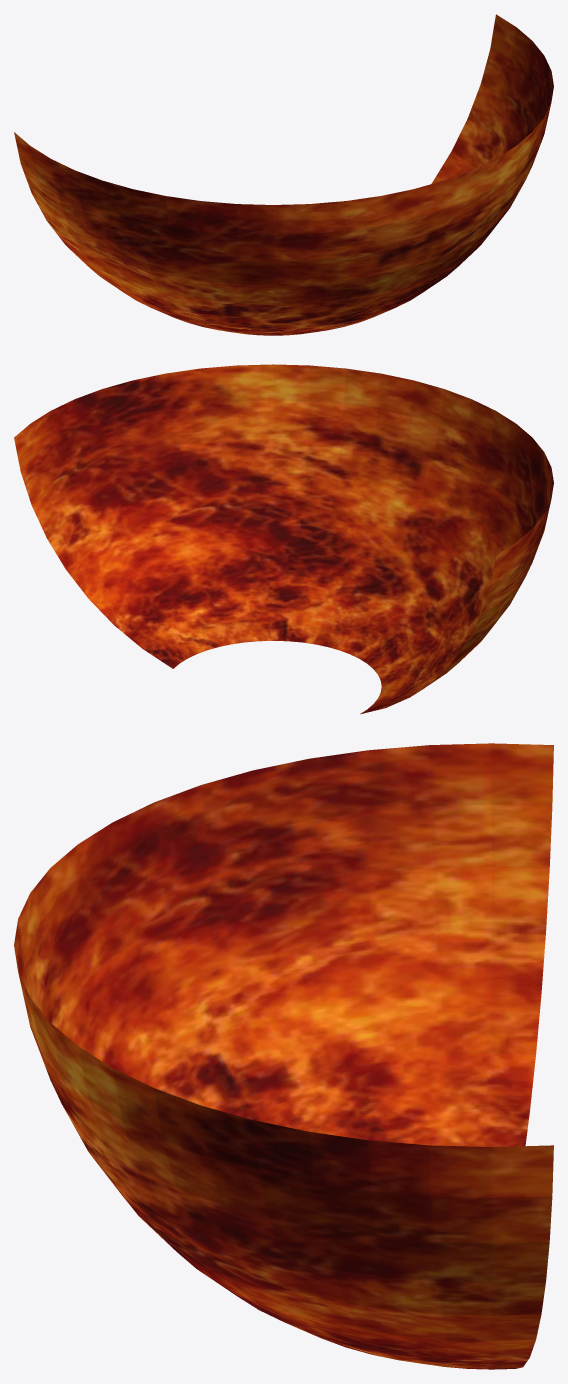
3 renders of one model, top to bottom at view 1: azimuth 30°, elevation 25°; view 2: azimuth 150°, elevation 25°; view 3: azimuth 270°, elevation 25°, orthographic. The views are drawn at different scales.
Bounding box in the file's own units: 2.2 × 0.8802 × 1.24.
Materials: 1 (1 with a texture image).
